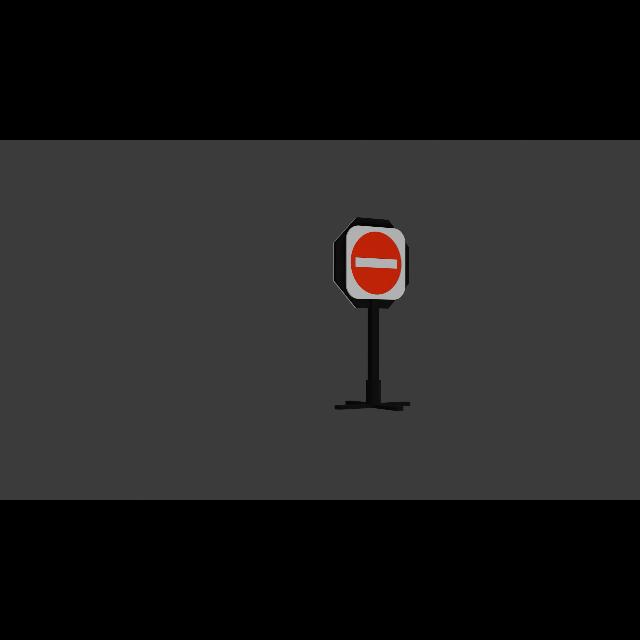sign_noentry: (351, 231, 404, 298)
